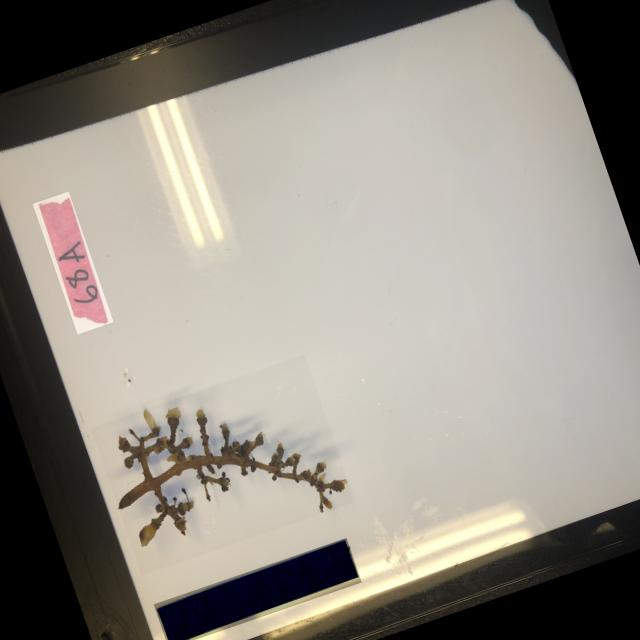index: (32, 190, 113, 333)
measure_label: (153, 536, 361, 640)
rachis_cluster: (90, 353, 354, 574)
